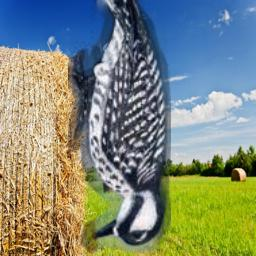Woodpecker: (68, 0, 171, 256)
